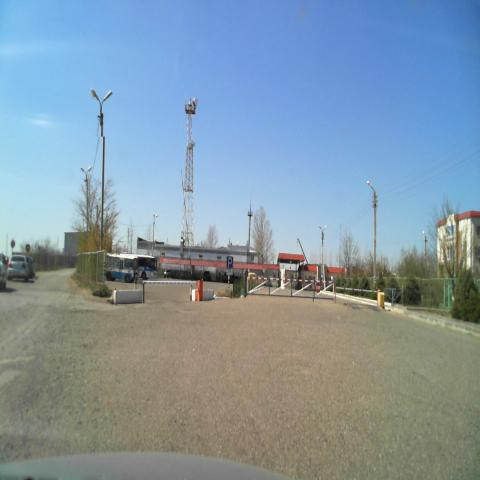3_1: (24, 243, 32, 254)
6_4: (227, 257, 232, 268)
